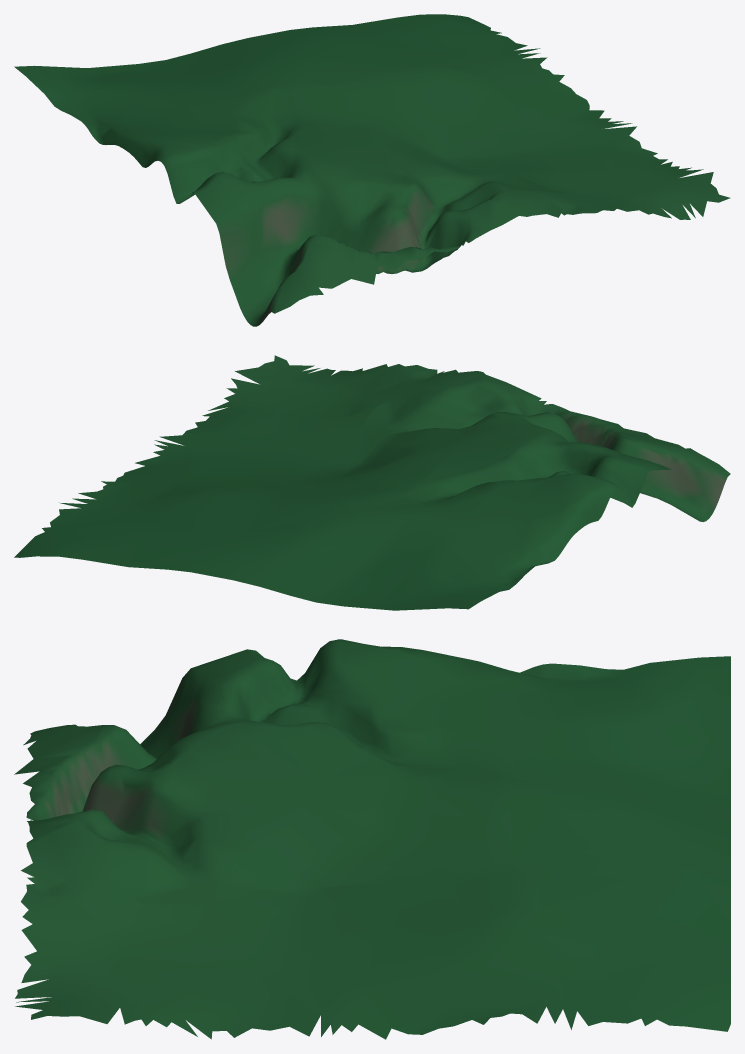
File: payo_land_xm4_y4_lod1.glb
The picture shows the model from 3 angles, top to bottom: view 1: azimuth 30°, elevation 25°; view 2: azimuth 150°, elevation 25°; view 3: azimuth 270°, elevation 25°; orthographic projection. The views are drawn at different scales.
Parts seen in each view (by area): view 1: payo_land_xm4_y4; view 2: payo_land_xm4_y4; view 3: payo_land_xm4_y4.
Part boxes in pixels (bbox=[...]): payo_land_xm4_y4: bbox=[14, 14, 730, 326]; payo_land_xm4_y4: bbox=[14, 355, 730, 610]; payo_land_xm4_y4: bbox=[14, 639, 730, 1039].
Size of the model in its own units: 264 by 54.96 by 263.
